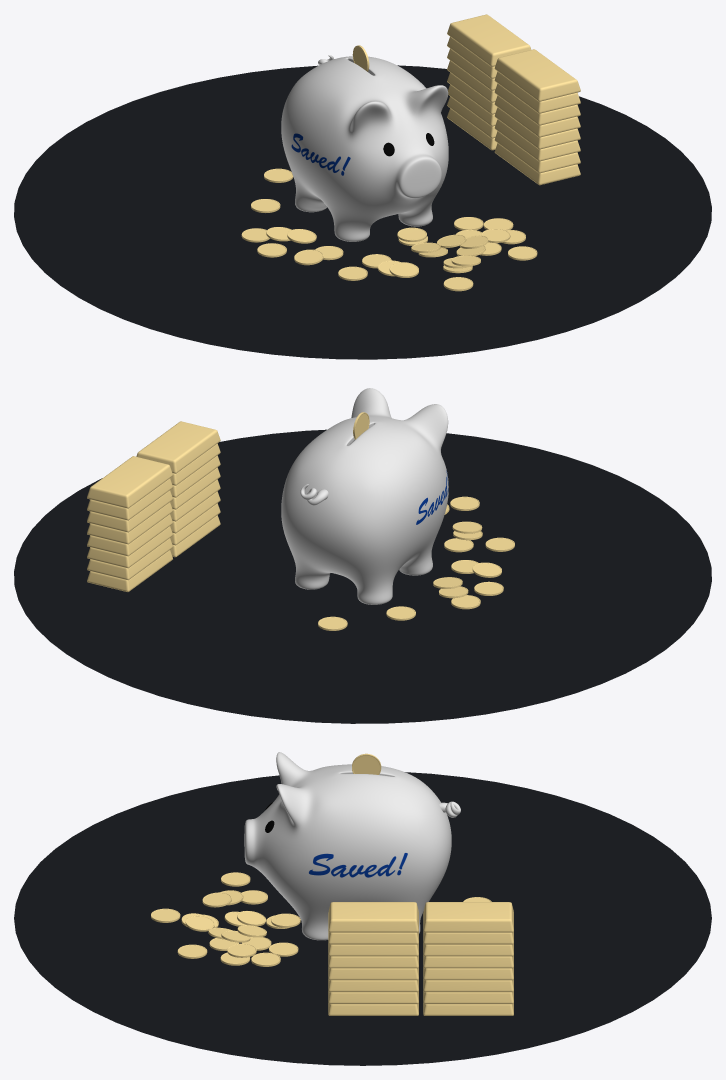
The model's file is piggybank.glb.
The picture shows the model from 3 angles, top to bottom: view 1: azimuth 30°, elevation 25°; view 2: azimuth 150°, elevation 25°; view 3: azimuth 270°, elevation 25°; orthographic projection.
Visible parts, largest first — view 1: Object_2, Object_7, Object_5, Object_10, Object_8, Object_13, Object_16, Object_14, Object_12, Object_17, Object_9, Object_11; view 2: Object_2, Object_7, Object_5, Object_8, Object_10, Object_14, Object_16, Object_13; view 3: Object_2, Object_7, Object_5, Object_12, Object_19, Object_9, Object_17, Object_10, Object_13, Object_16, Object_8.
Boxes of the visible parts, x1,y1,x2,y2 form: Object_2: [14, 65, 711, 359]; Object_7: [281, 56, 448, 241]; Object_5: [447, 14, 580, 185]; Object_10: [251, 199, 537, 277]; Object_8: [241, 45, 369, 265]; Object_13: [266, 227, 473, 291]; Object_16: [287, 228, 510, 268]; Object_14: [257, 243, 480, 266]; Object_12: [454, 217, 513, 237]; Object_17: [411, 235, 488, 256]; Object_9: [338, 242, 501, 280]; Object_11: [264, 168, 525, 245]; Object_2: [14, 429, 711, 723]; Object_7: [281, 388, 448, 604]; Object_5: [87, 421, 220, 591]; Object_8: [353, 412, 501, 609]; Object_10: [386, 521, 482, 620]; Object_14: [451, 560, 503, 595]; Object_16: [433, 538, 473, 588]; Object_13: [439, 496, 479, 598]; Object_2: [14, 772, 711, 1065]; Object_7: [244, 752, 451, 940]; Object_5: [328, 902, 513, 1015]; Object_12: [242, 937, 298, 966]; Object_19: [308, 852, 407, 877]; Object_9: [209, 872, 250, 950]; Object_17: [208, 911, 266, 942]; Object_10: [177, 892, 231, 958]; Object_13: [151, 908, 300, 927]; Object_16: [227, 890, 267, 957]; Object_8: [352, 753, 381, 774].
Bounding box in the file's own units: 0.8734 × 0.2276 × 0.8734.
7 materials, 1 textured.
